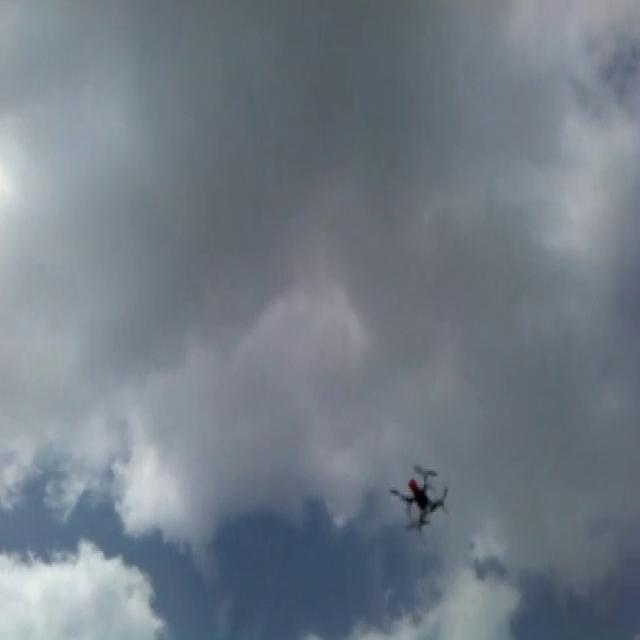drone: (387, 460, 452, 540)
